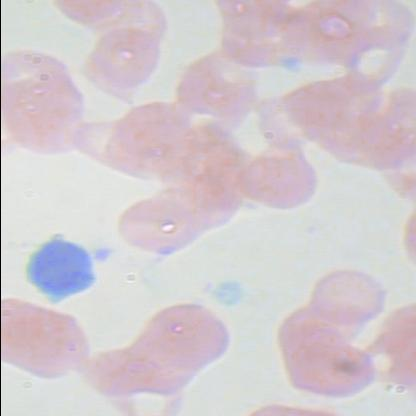Platelets: (210, 274, 251, 312), (275, 51, 304, 74), (89, 243, 116, 265)
RBC: (300, 263, 394, 334), (235, 147, 330, 217), (289, 334, 383, 404), (142, 298, 236, 368), (114, 187, 208, 257), (80, 26, 174, 96), (177, 52, 271, 122), (108, 93, 202, 163), (2, 94, 96, 164), (4, 92, 98, 162), (286, 70, 380, 140), (270, 300, 364, 370), (1, 312, 93, 382), (210, 0, 304, 68), (333, 25, 415, 97), (333, 107, 415, 179), (1, 39, 81, 111), (85, 0, 174, 51), (103, 372, 192, 416)
WBC: (26, 230, 98, 310)
